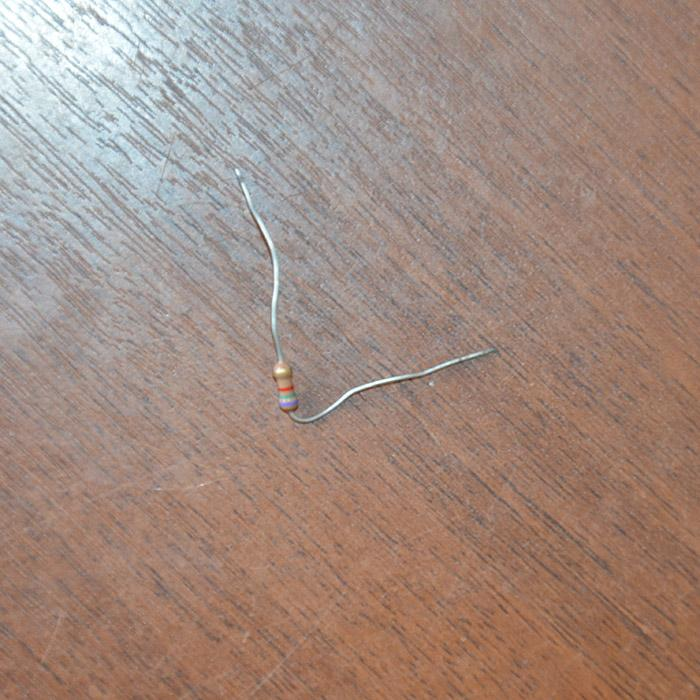resistor: (272, 360, 298, 411)
